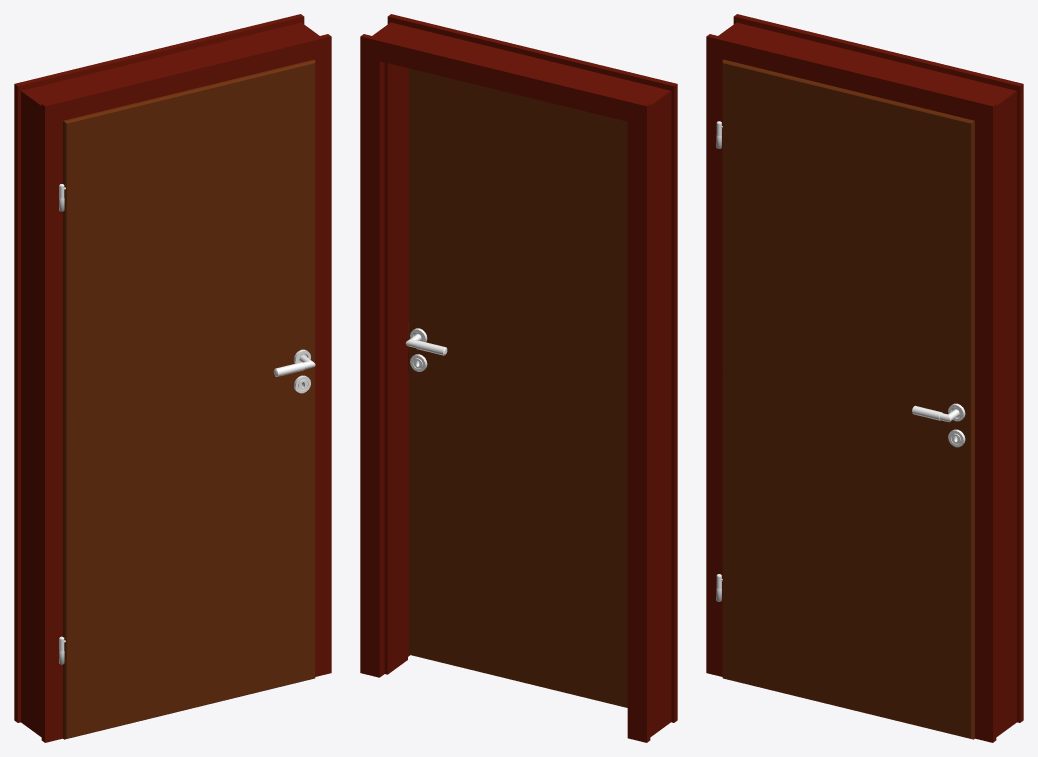
Rendered from doortwo.fbx.
The picture shows the model from 3 angles, left to right: view 1: azimuth 30°, elevation 25°; view 2: azimuth 150°, elevation 25°; view 3: azimuth 330°, elevation 25°; orthographic projection.
Visible parts, largest first — view 1: porta, base, handMain; view 2: porta, base, handMain; view 3: porta, base, handMain.
Boxes of the visible parts, left/top/right/bottom form: porta: left=63, top=59, right=315, bottom=739; base: left=14, top=14, right=331, bottom=742; handMain: left=273, top=349, right=315, bottom=393; porta: left=408, top=68, right=627, bottom=707; base: left=360, top=14, right=677, bottom=742; handMain: left=405, top=328, right=447, bottom=371; porta: left=722, top=59, right=974, bottom=739; base: left=706, top=14, right=1023, bottom=742; handMain: left=912, top=403, right=965, bottom=447.
Size of what is drawn, in the model's own units: 0.9397 by 2 by 0.2524.
